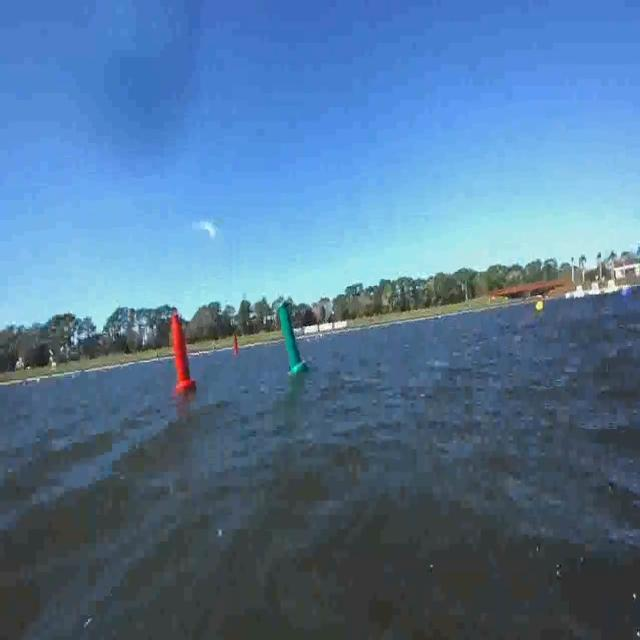green-column-buoy: (277, 305, 309, 374)
red-column-buoy: (168, 311, 196, 395), (234, 335, 241, 356)
yellow-buoy: (534, 300, 544, 314)
